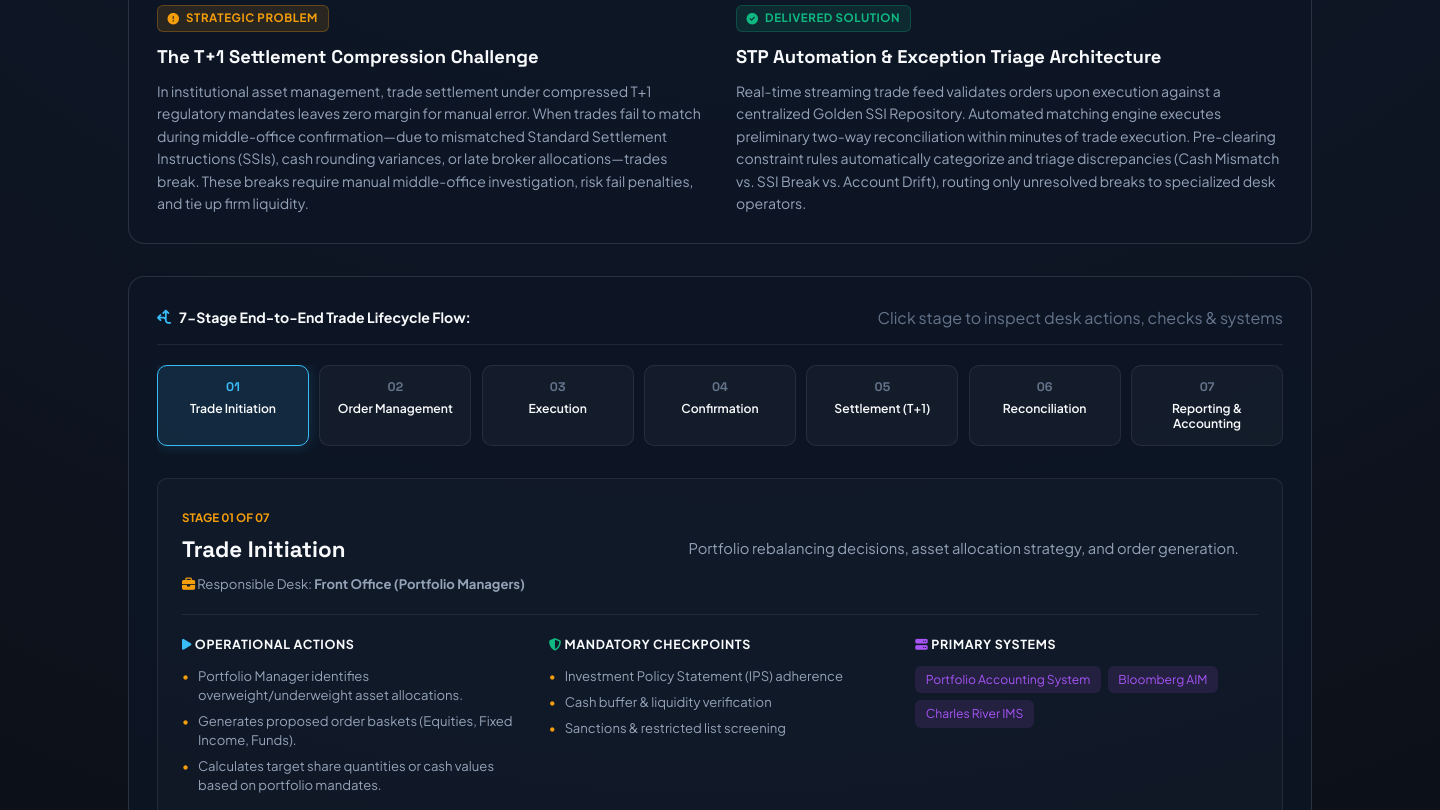
Scenario: Techno-Functional Portfolio Comprehensive Regression Suite › CapitalMarketsCaseStudies Component › renders 7-stage Trade Lifecycle and allows stage inspection
(page scrolled)
Expected: the button "01 Trade Initiation" is shown, [157,365,309,446]
Expected: the button "02 Order Management" is shown, [319,365,471,446]
Note: Click Settlement stage
Click the button "05 Settlement (T+1)".
click(882, 406)  # box [806,365,958,446]
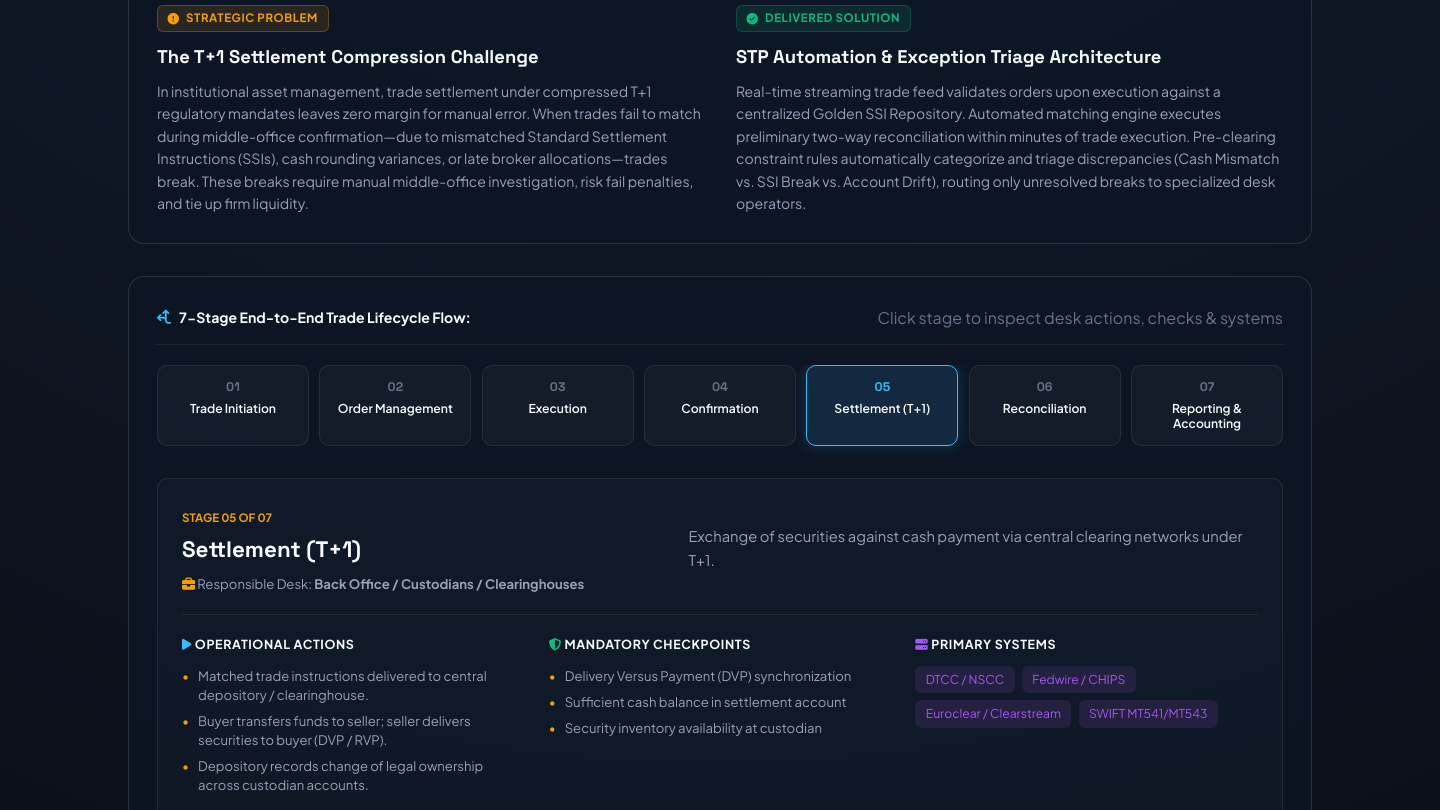
Expected: the text "Exchange of securities against cash payment via central clearing networks under T+1" is shown, [688,527,1242,569]
